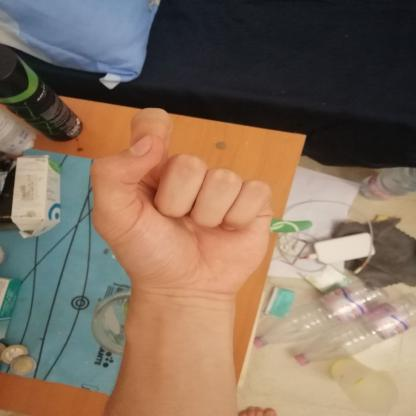FAA: (73, 100, 283, 308)
